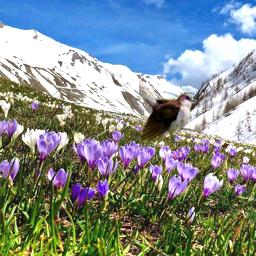Cuckoo: (139, 59, 197, 145)
